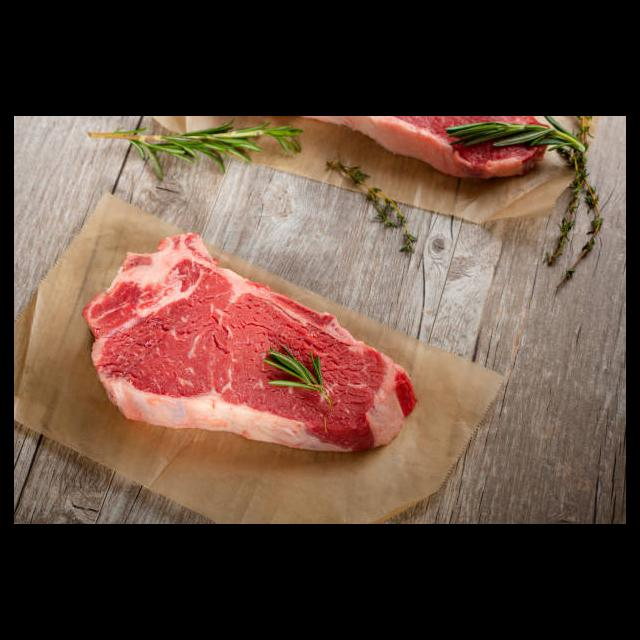beef: (82, 230, 416, 454)
